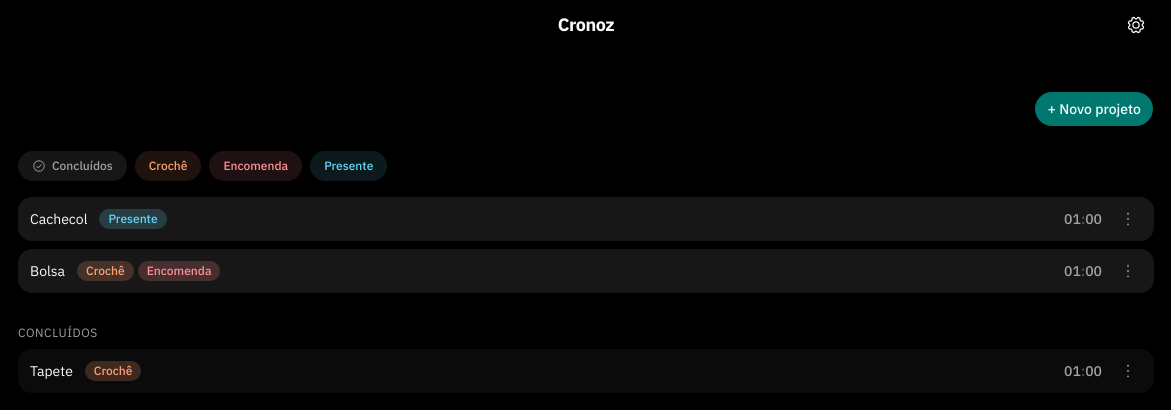
Test: Home tags › unions tag filters and intersects the completed filter
Click the button "Crochê" at [168, 166], box x1=135 y1=151 x2=201 y2=181
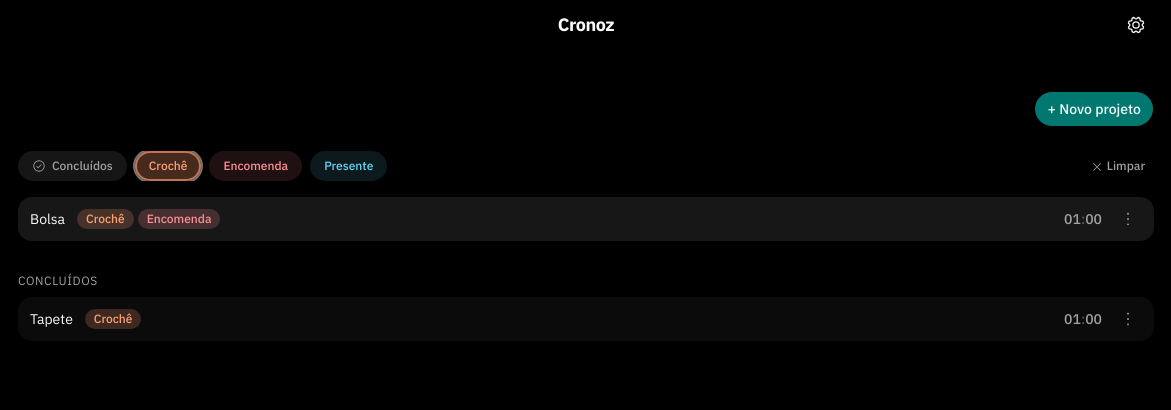
Expected: the link named "Bolsa" is shown, x1=18 y1=197 x2=1154 y2=241
Now the text "Cachecol" is gone
Click the button "Concluídos" at [72, 166], box x1=18 y1=151 x2=127 y2=181
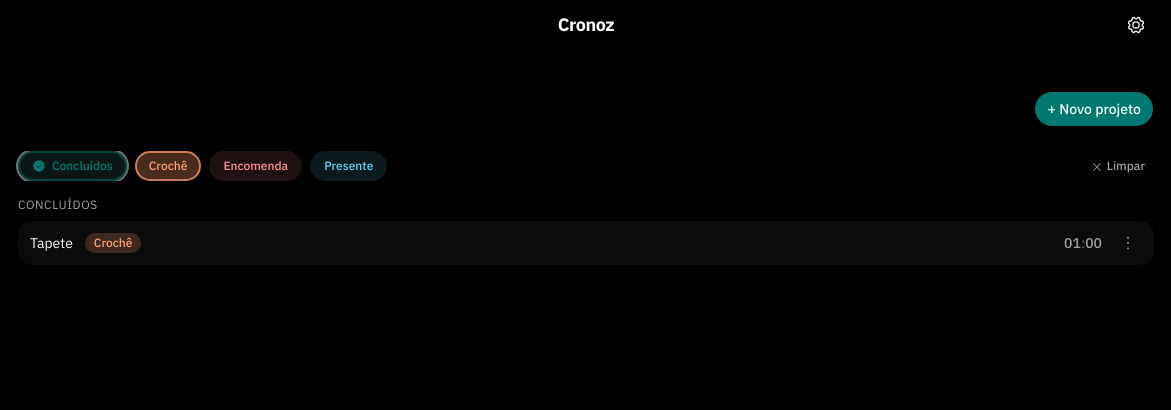
Expected: the link named "Tapete" is shown, x1=18 y1=221 x2=1154 y2=265
Now the text "Bolsa" is gone
